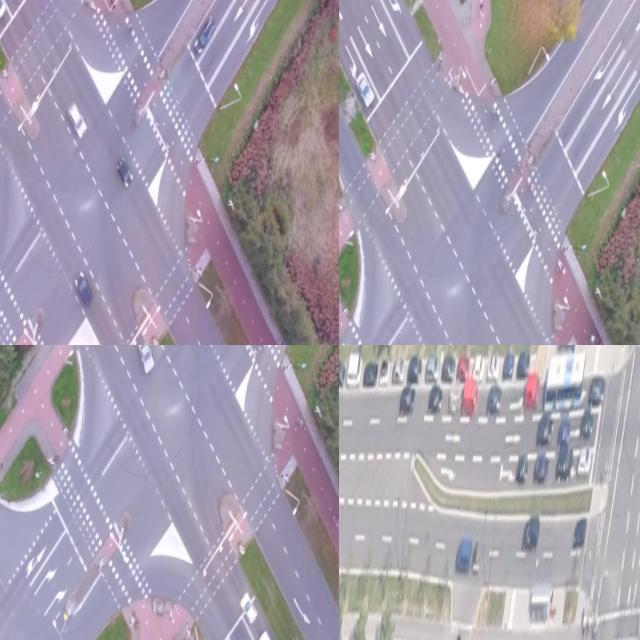UAI: (193, 13, 219, 57), (64, 100, 91, 141), (72, 269, 98, 310), (352, 70, 378, 111), (113, 155, 137, 190), (133, 345, 159, 375), (555, 445, 575, 484), (238, 591, 261, 624), (455, 538, 474, 575), (462, 381, 481, 417), (524, 374, 542, 411), (346, 352, 364, 388), (522, 518, 541, 552), (588, 374, 607, 406), (533, 452, 551, 485), (399, 384, 417, 416), (536, 417, 555, 447), (407, 354, 424, 386), (572, 517, 588, 551), (579, 409, 595, 442), (577, 446, 593, 479), (487, 385, 504, 415), (428, 384, 445, 414), (425, 354, 441, 384), (457, 354, 472, 384), (516, 349, 531, 379), (558, 418, 572, 448), (515, 459, 530, 487), (441, 356, 456, 384), (487, 353, 502, 381), (502, 351, 516, 381), (363, 362, 379, 388), (448, 385, 462, 413), (392, 358, 406, 386), (472, 354, 486, 382), (379, 358, 392, 386), (471, 546, 483, 574), (254, 629, 284, 640), (339, 358, 347, 386), (0, 0, 10, 21)
car: (542, 345, 589, 415)
